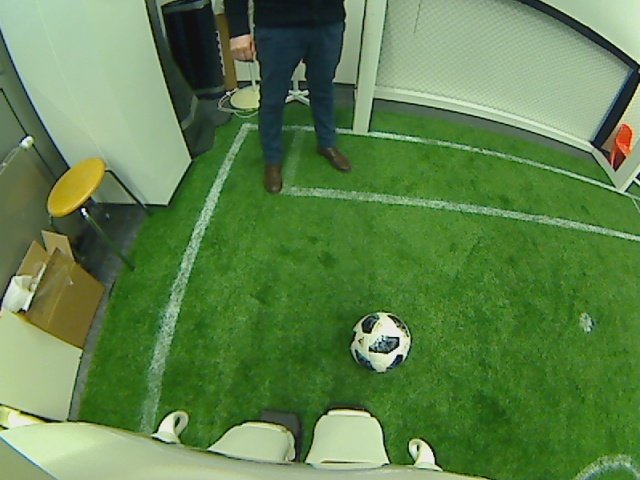ball: (346, 307, 413, 375)
